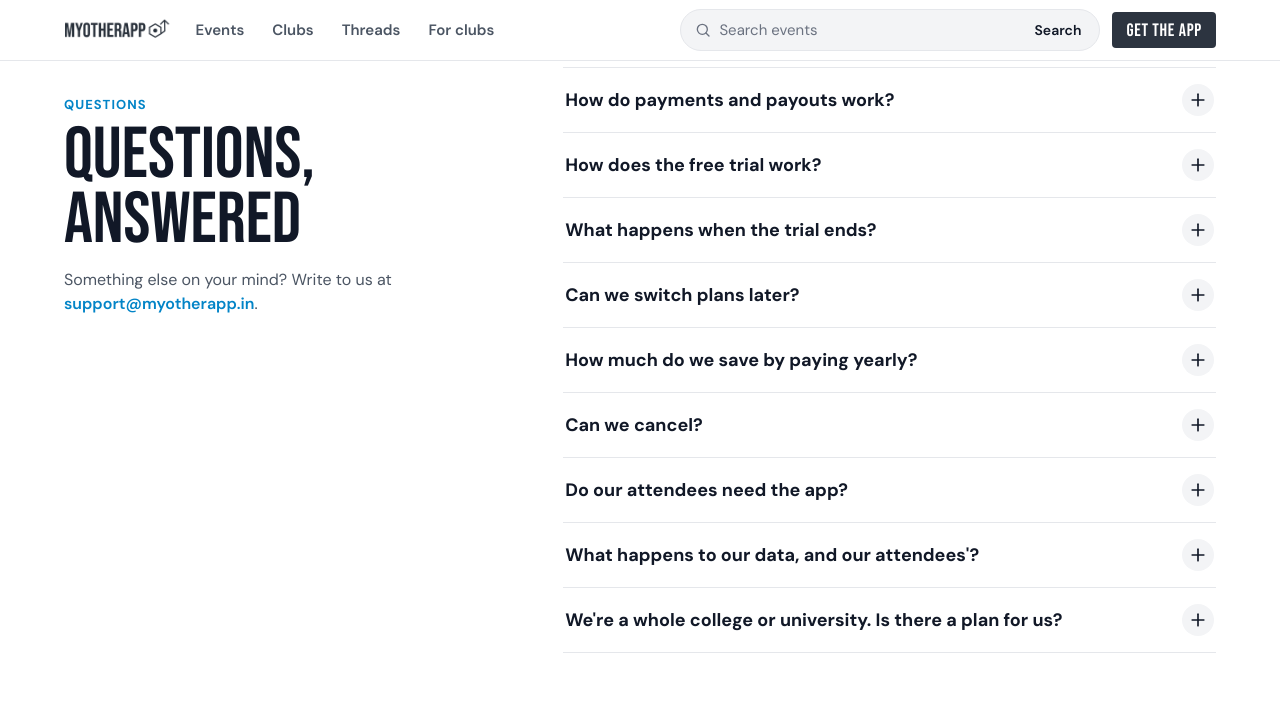
it: /for-clubs › sells the dashboard: the hero, the way in, every part of it, how to start, the plans, the questions
The width and height of the screenshot is (1280, 720).
(page scrolled)
What coordinates should you click on to do the following:
click the heading "How much do we save by paying yearly?"
I would click on:
 (890, 360)
Its box is x1=565 y1=344 x2=1214 y2=376.
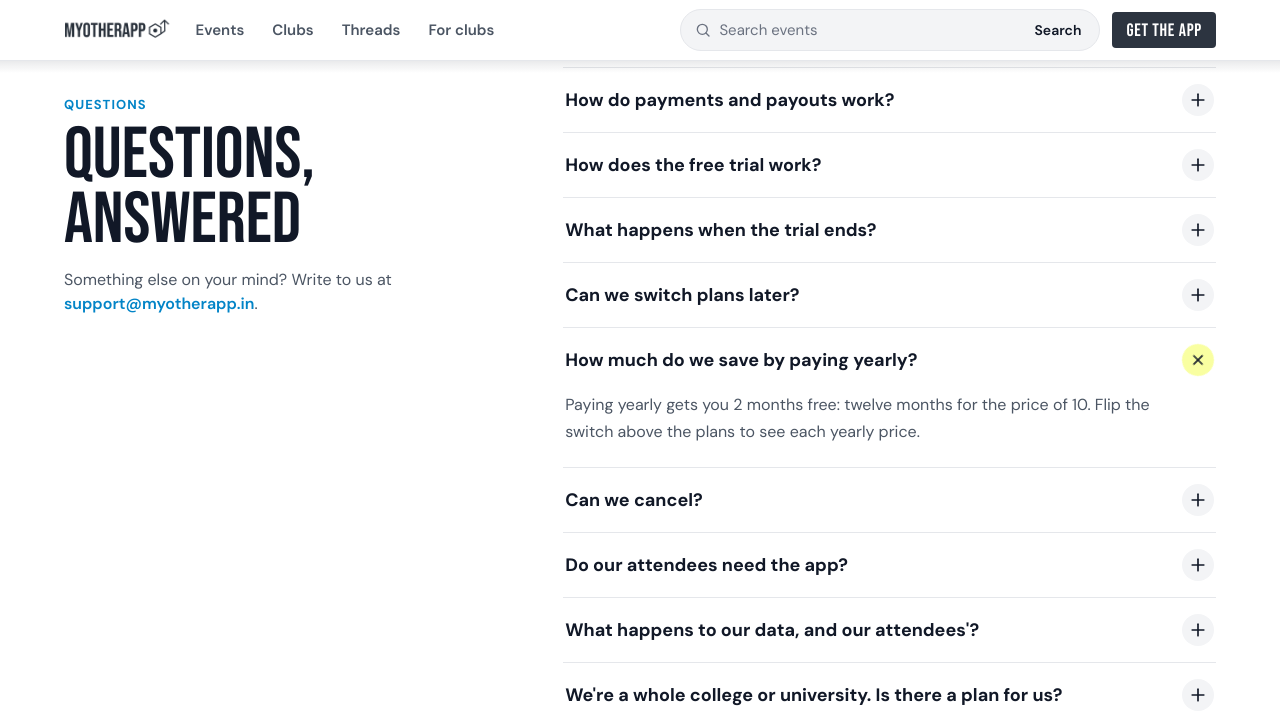
Expected: the text "twelve months for the price of 10" is shown, x1=565 y1=394 x2=1150 y2=442
